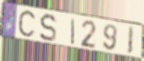2: (80, 20, 99, 51)
9: (101, 24, 118, 53)
C: (17, 9, 38, 40)
I: (127, 26, 135, 57), (70, 18, 76, 46)
S: (39, 13, 58, 44)
